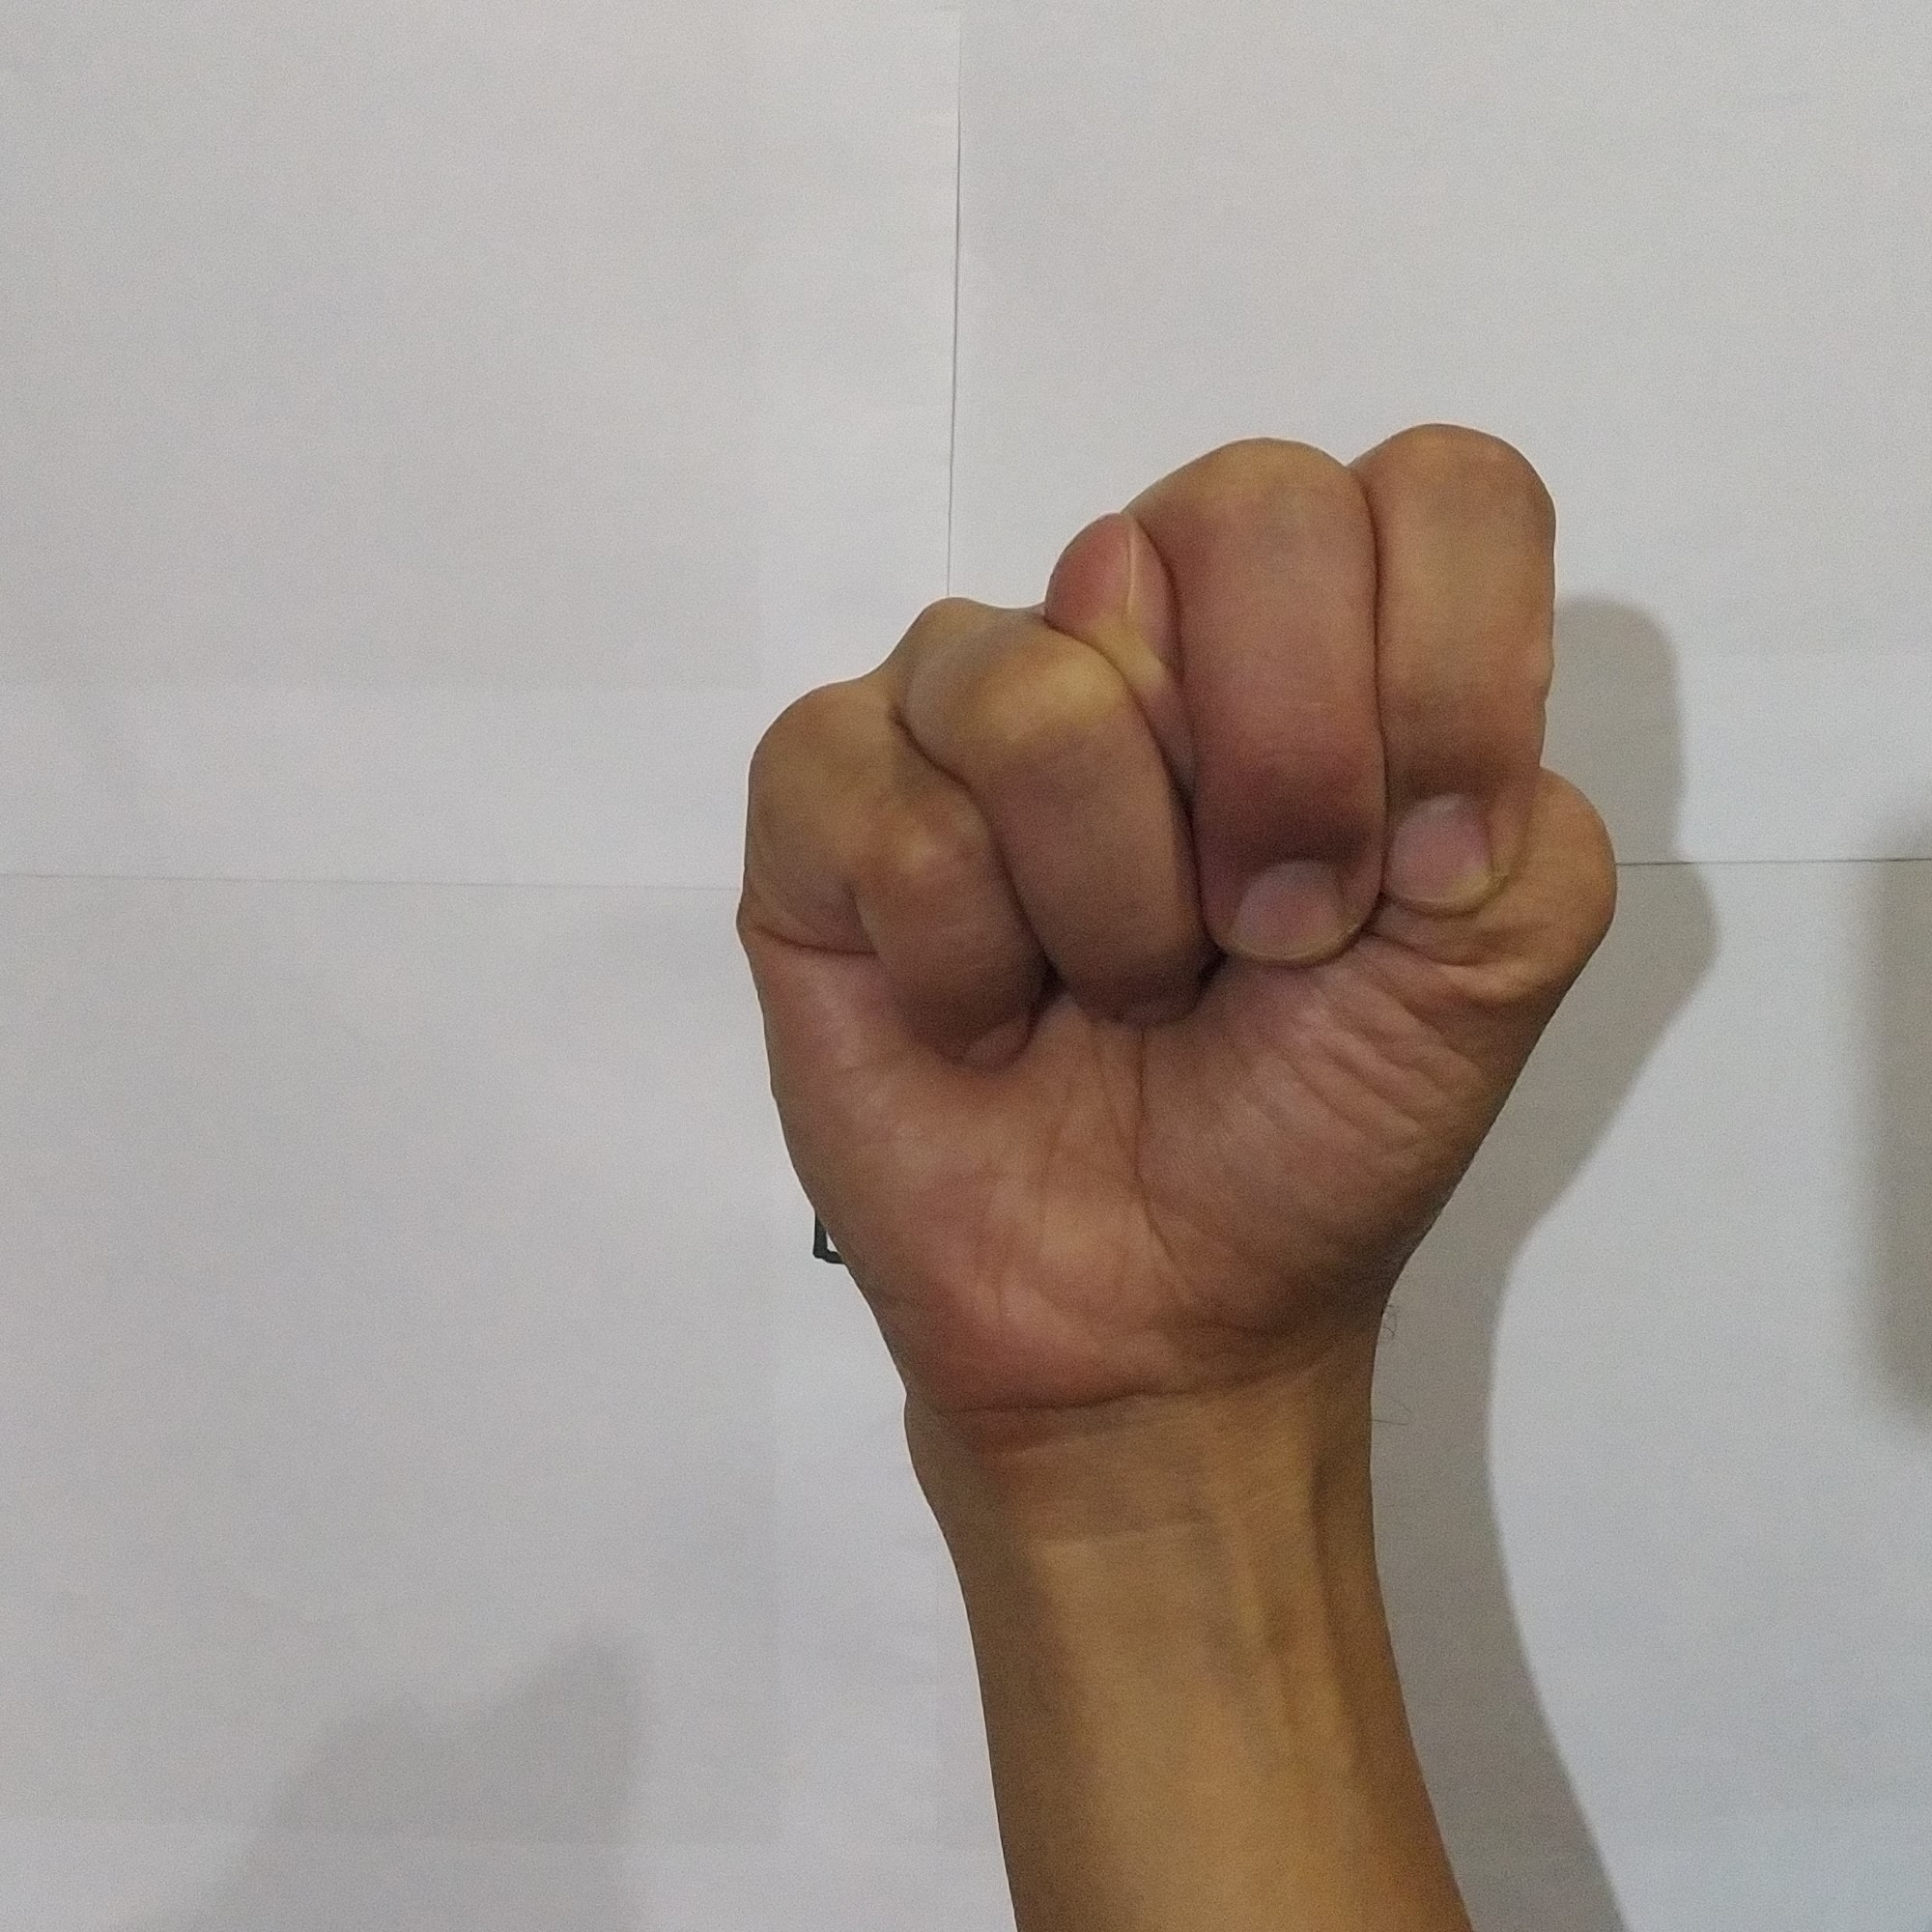N: (702, 403, 1645, 1385)
